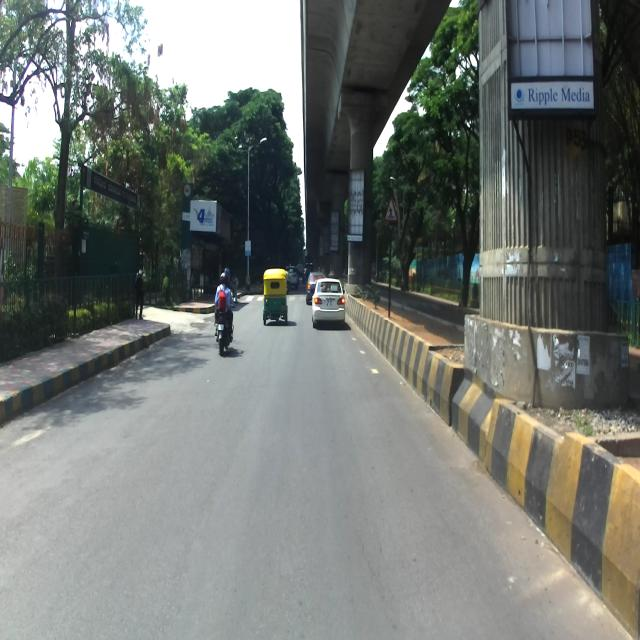auto ahead at: (260, 266, 292, 330)
car ahead at: (308, 273, 346, 326)
